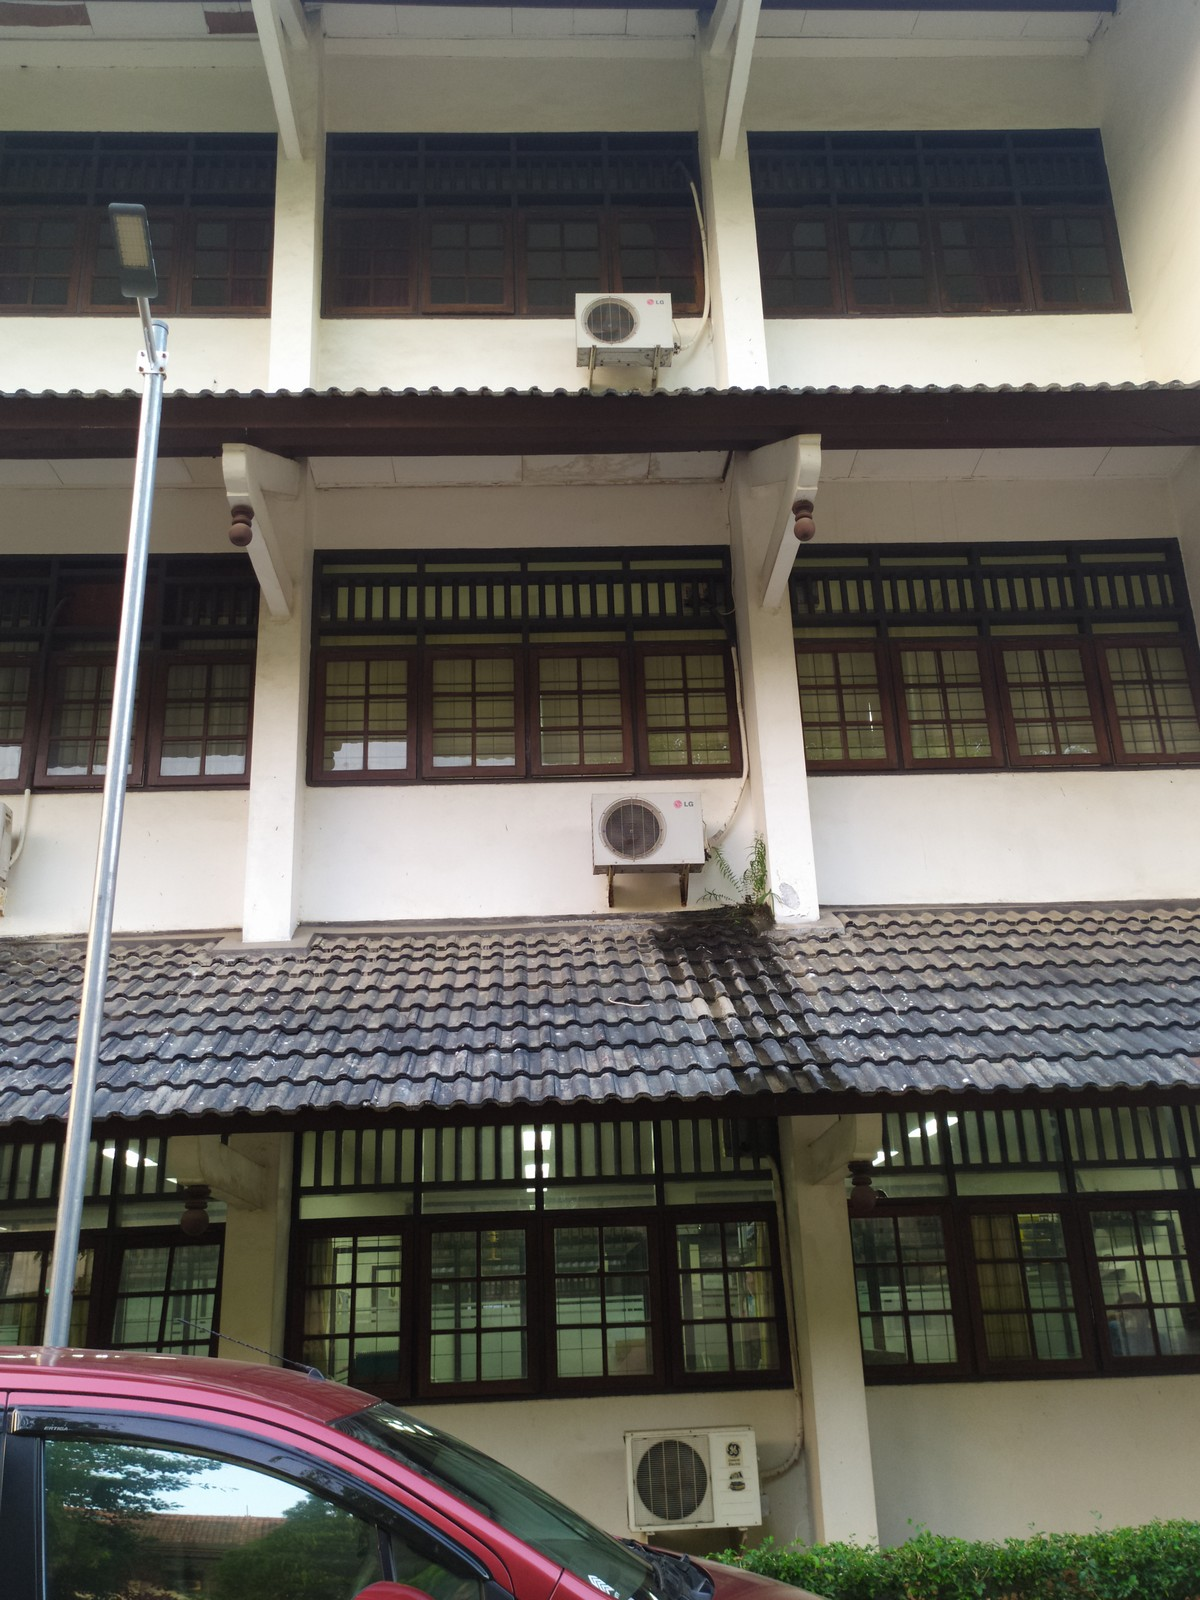concrete column: (720, 467, 829, 918), (776, 1134, 889, 1555), (245, 535, 323, 941), (686, 58, 779, 382), (260, 53, 337, 389)
